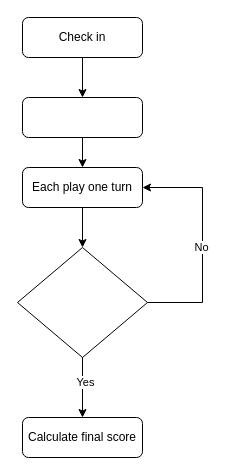
The diagram is 228 pixels wide and 475 high, and some of its shapes have lost their labels. The shapes that lost their labels are listed below. From the top down, each one's box as (x1, y1, x2, y2) in pixels, then its label:
(22, 96, 142, 138): Start game
(16, 246, 148, 358): Has each player played 10 turns?
